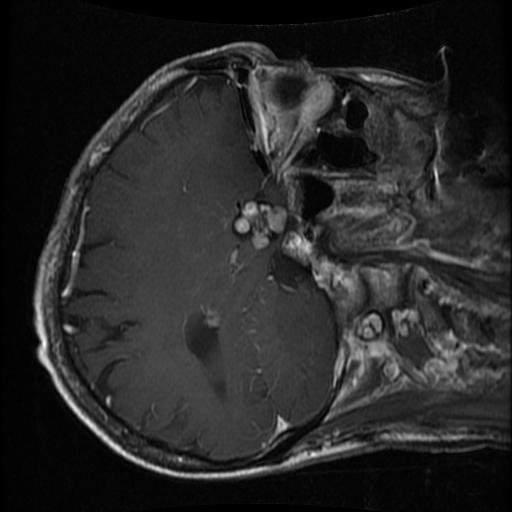glioma: (231, 197, 289, 255)
